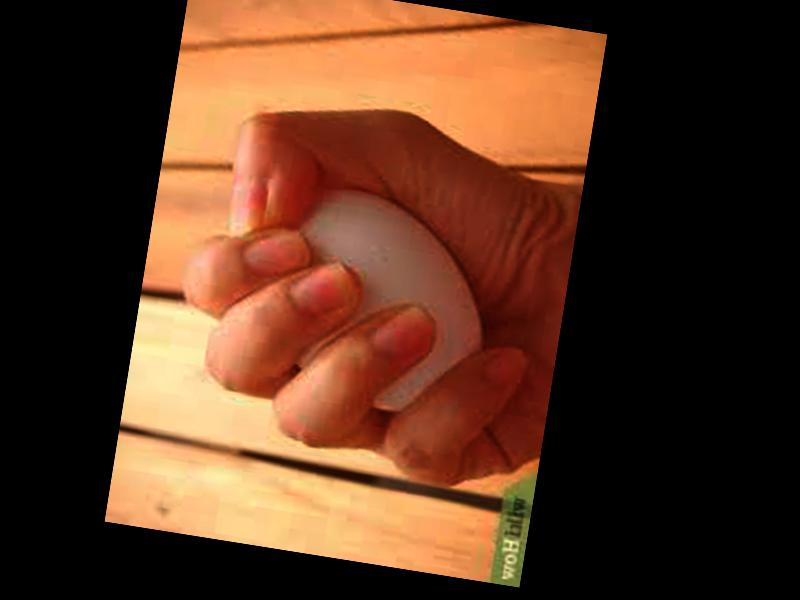Eggs: (273, 181, 502, 425)
